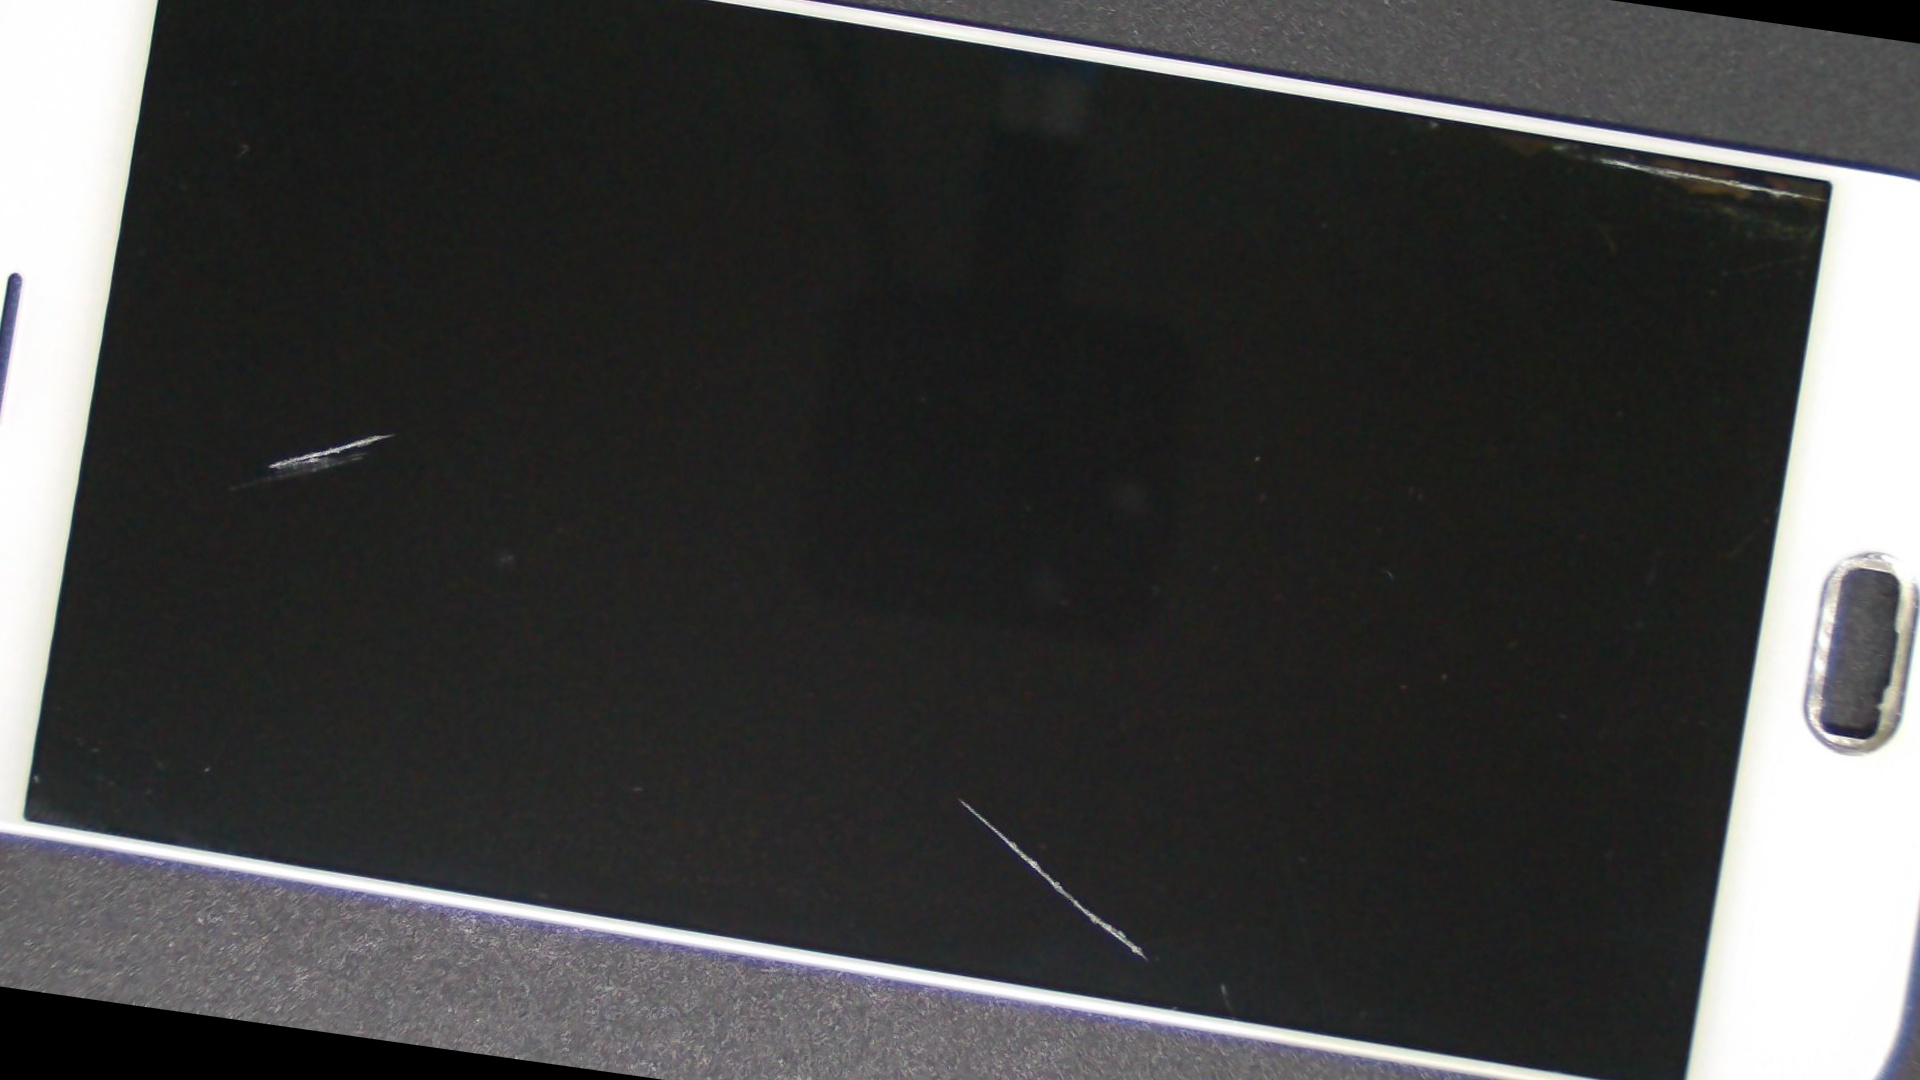oil: (338, 280, 1593, 1080), (79, 98, 709, 769), (742, 0, 1920, 302)
